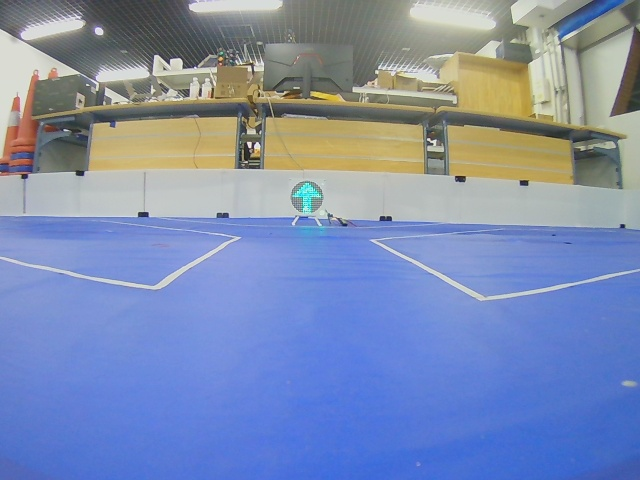straight_green: (291, 181, 324, 215)
